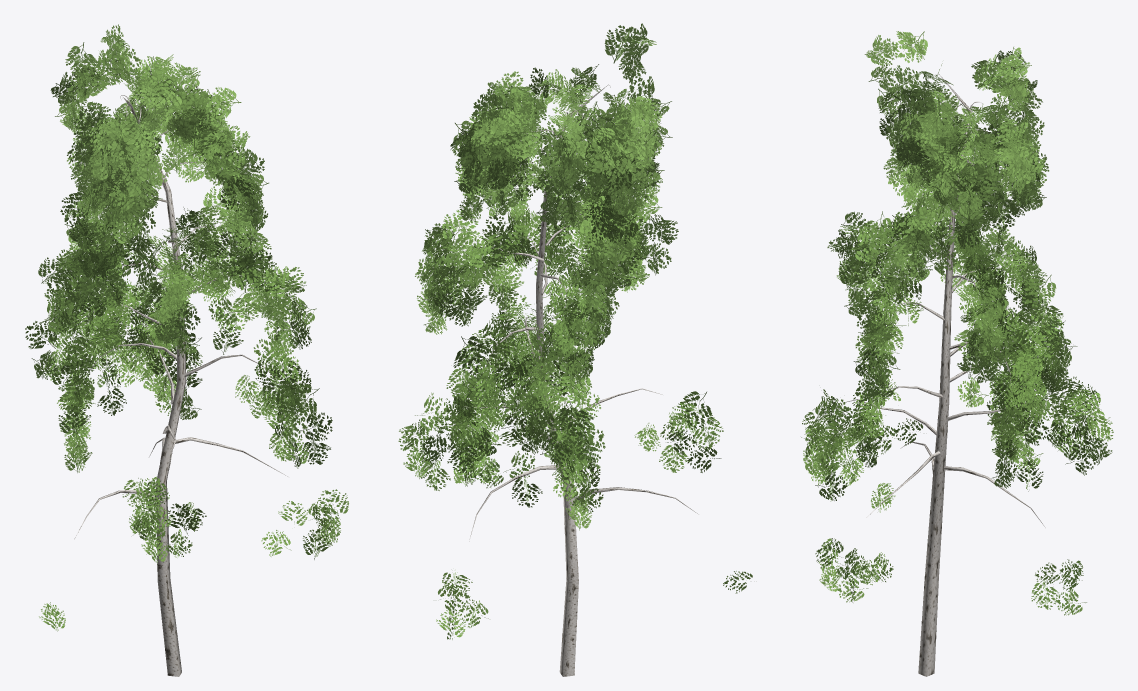
File: birch_tree_3_lod1.gltf
The picture shows the model from 3 angles, left to right: view 1: azimuth 30°, elevation 25°; view 2: azimuth 150°, elevation 25°; view 3: azimuth 270°, elevation 25°; orthographic projection. The views are drawn at different scales.
Parts seen in each view (by area): view 1: birch_tree_3_lod1; view 2: birch_tree_3_lod1; view 3: birch_tree_3_lod1.
Part boxes in pixels (left/top/right/bottom): birch_tree_3_lod1: left=25, top=24, right=348, bottom=676; birch_tree_3_lod1: left=398, top=23, right=752, bottom=676; birch_tree_3_lod1: left=801, top=31, right=1113, bottom=676.
Bounding box in the file's own units: 4.14 × 8.14 × 3.87.
Materials: 2 (2 with a texture image).
